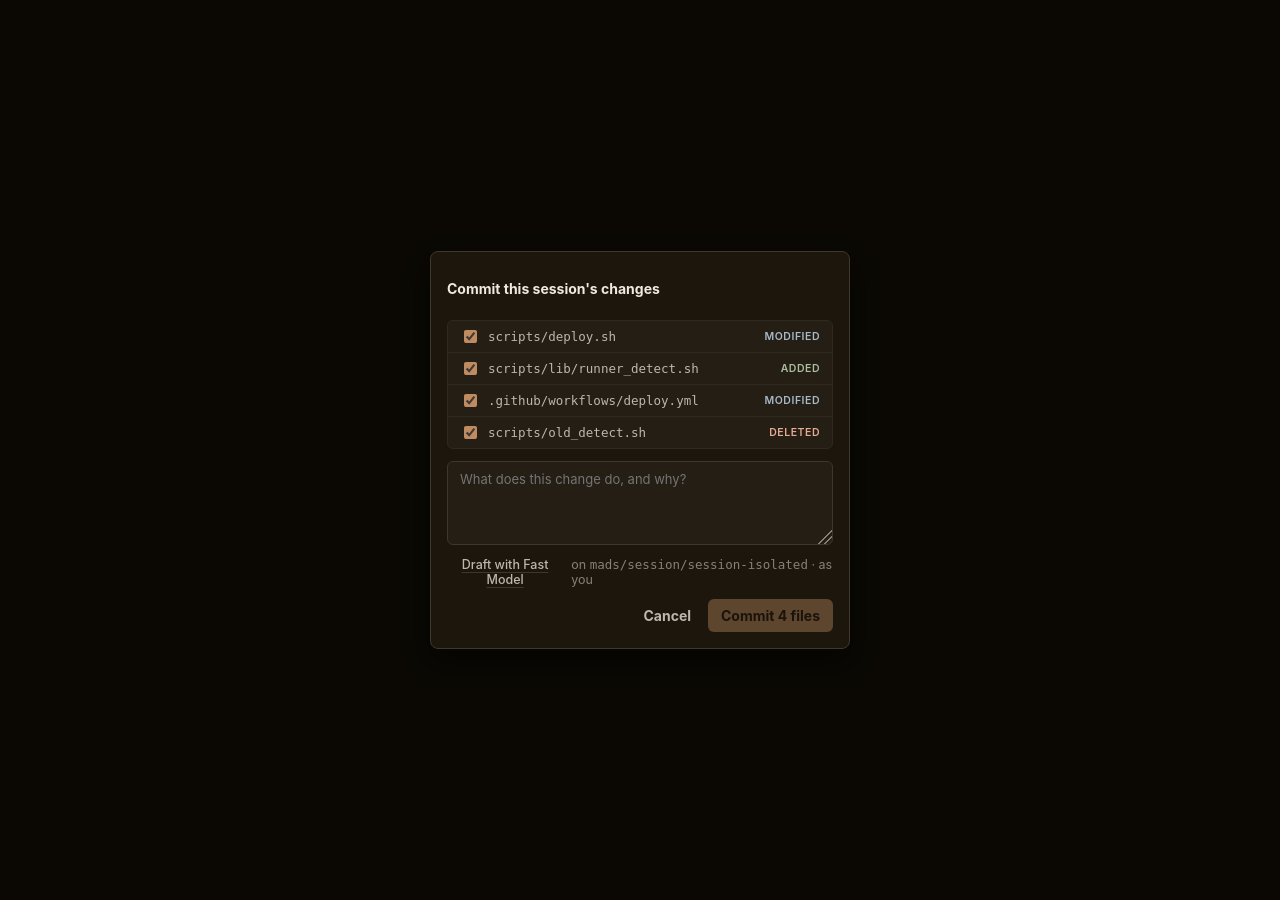
Test: CommitDialog (D5) › drafts with the Fast Model, and says when the diff was cut
This screenshot has width=1280, height=900.
Click the checkbox named "Include scripts/old_detect.sh" at (470, 433), box [464,426,477,439]
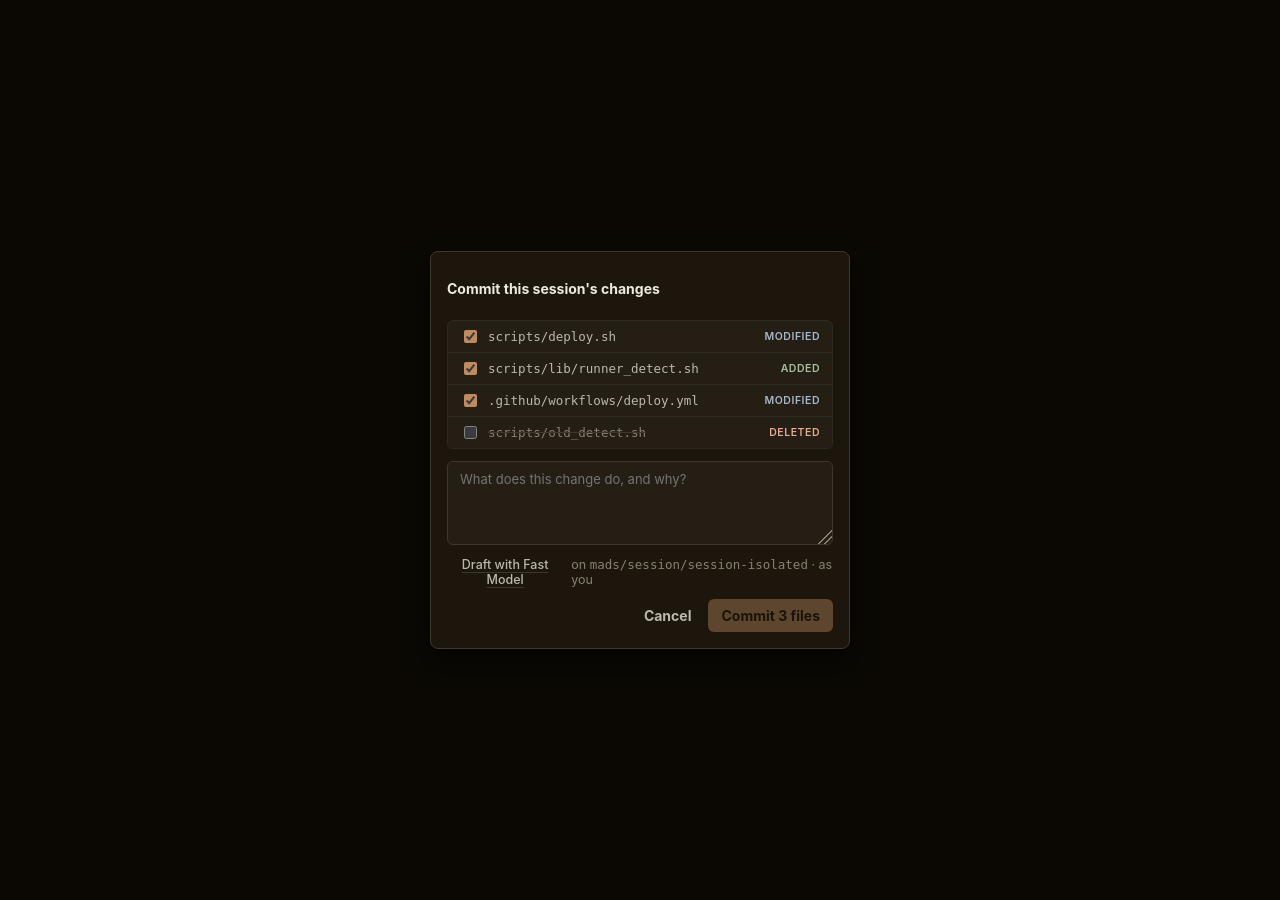
Click the button "Draft with Fast Model" at (505, 572), box [447,557,563,587]
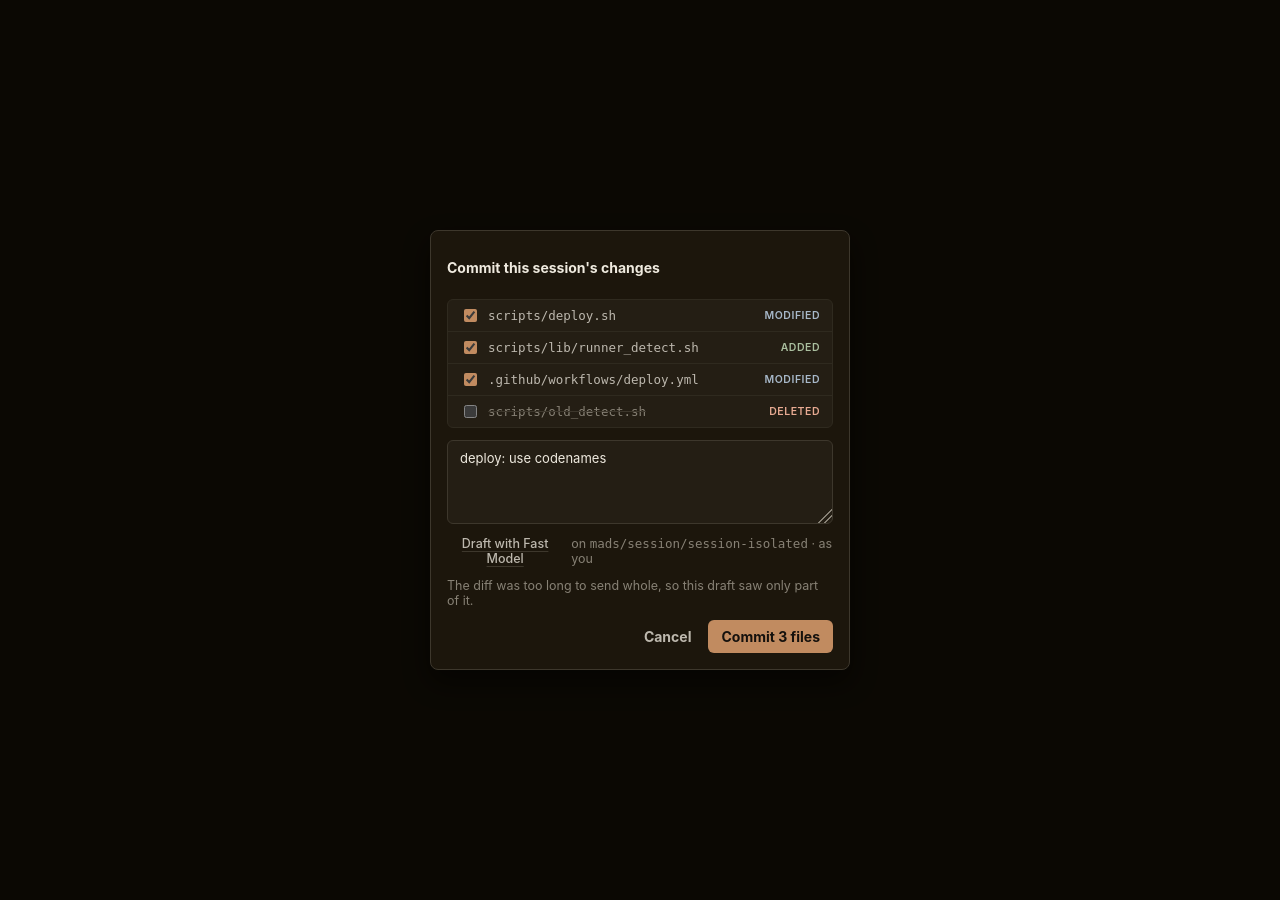
Now the text box named "Commit message" holds "deploy: use codenames", box [447,440,833,524]
Now the text "saw only part of it" is shown, box [447,578,818,608]
